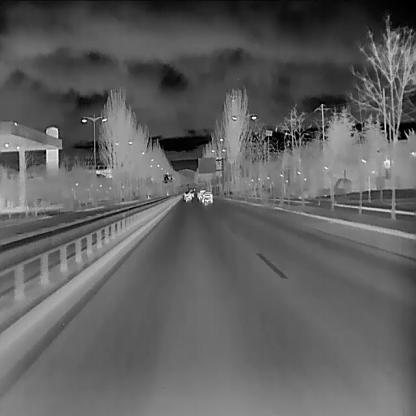car: (200, 190, 213, 203), (183, 190, 191, 200), (198, 189, 206, 199), (190, 190, 194, 197)
